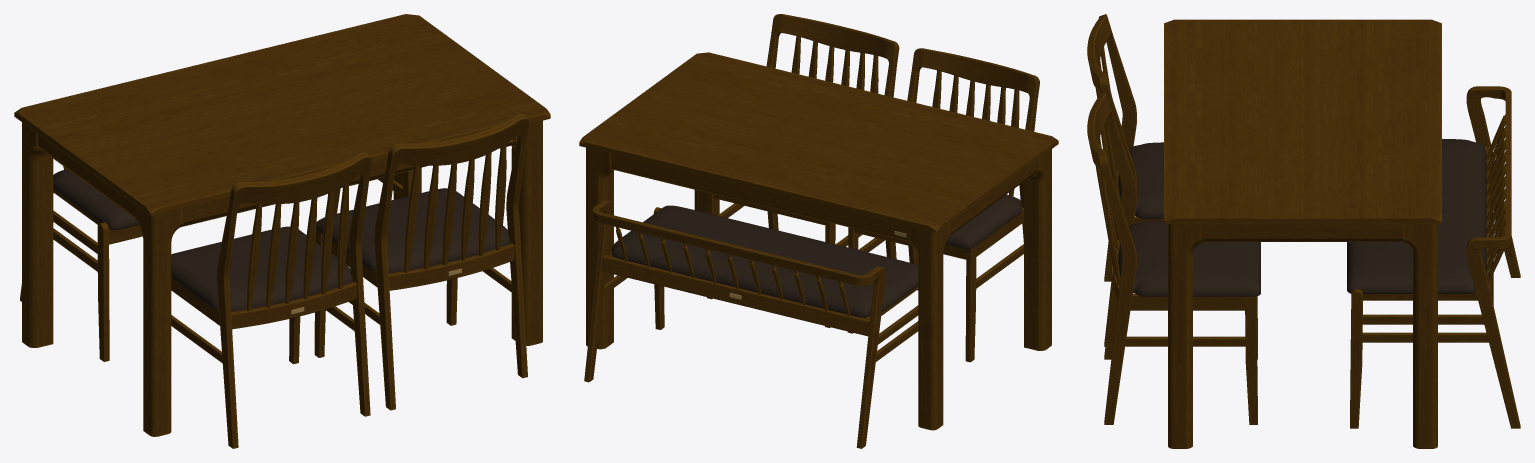
File: diningtable54837.glb
The picture shows the model from 3 angles, left to right: view 1: azimuth 30°, elevation 25°; view 2: azimuth 150°, elevation 25°; view 3: azimuth 270°, elevation 25°; orthographic projection. The views are drawn at different scales.
Parts seen in each view (by area): view 1: Table, Cube, Cube.002, Cube.003; view 2: Table, Cube.003, Cube, Cube.002; view 3: Table, Cube.003, Cube.002, Cube.
Part boxes in pixels (bbox=[...]): Table: bbox=[14, 14, 550, 436]; Cube: bbox=[171, 152, 372, 448]; Cube.002: bbox=[314, 113, 529, 410]; Cube.003: bbox=[20, 166, 413, 361]; Table: bbox=[579, 52, 1058, 430]; Cube.003: bbox=[584, 200, 918, 448]; Cube: bbox=[847, 48, 1039, 362]; Cube.002: bbox=[707, 14, 899, 327]; Table: bbox=[1164, 19, 1441, 448]; Cube.003: bbox=[1347, 86, 1520, 428]; Cube.002: bbox=[1087, 92, 1260, 424]; Cube: bbox=[1087, 14, 1257, 346].
Size of the model in its own units: 1.35 by 0.85 by 1.25.
Materials: 3 (3 with a texture image).
